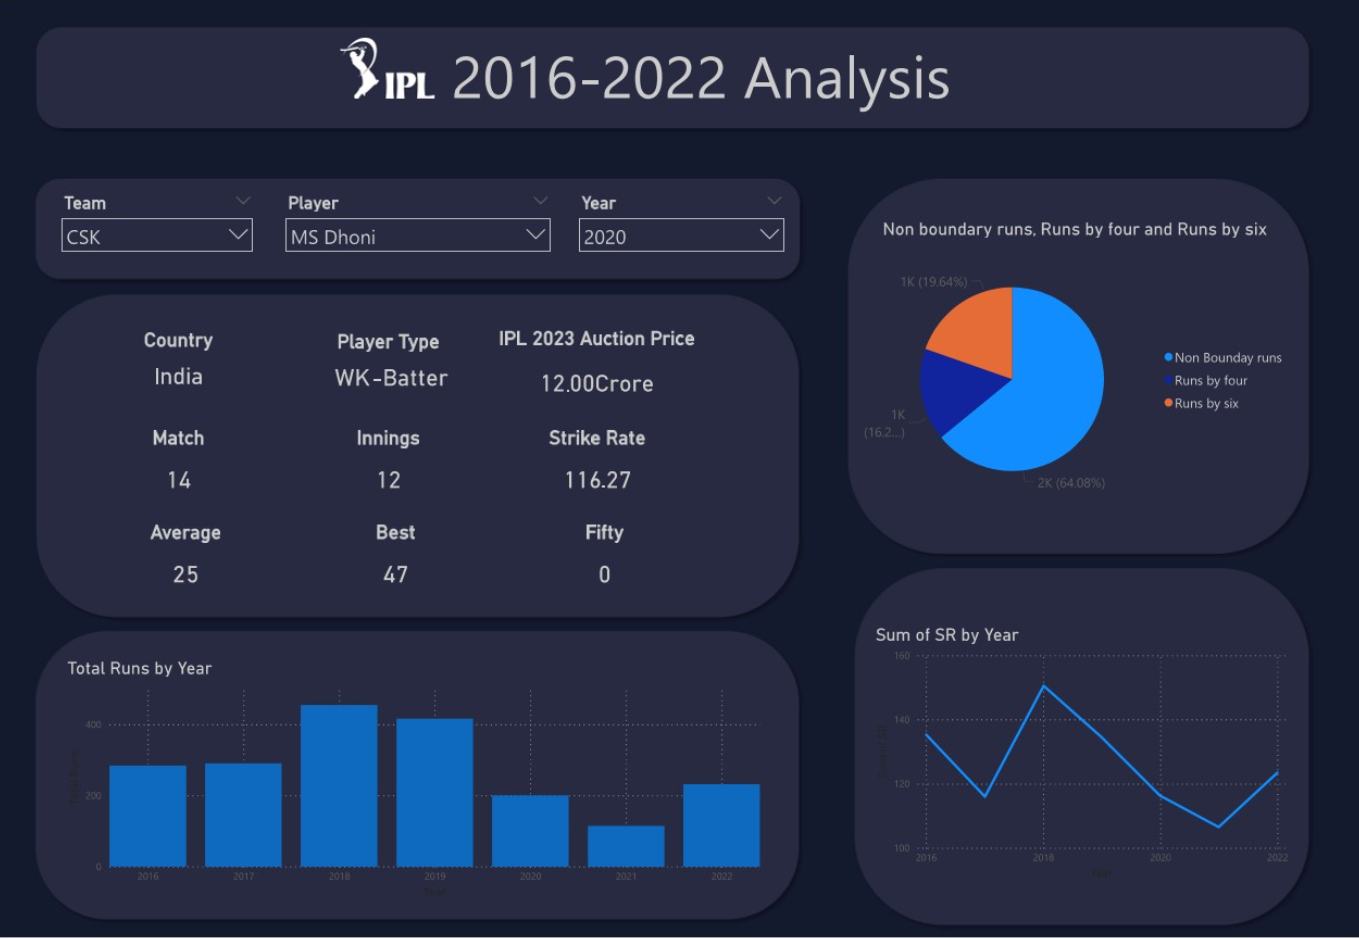

The dashboard page shown, as its layout file describes it:
{"tool":"powerbi","page":{"name":"Batsman","canvas":[1670,1150],"ordinal":0},"visuals":[{"type":"shape","box":[36,24,1580,142],"z":0},{"type":"shape","box":[1032,210,584,478],"z":1000},{"type":"shape","box":[1040,688,576,456],"z":2000},{"type":"shape","box":[35,765,955,371.7],"z":3000},{"type":"shape","box":[36,352,954,414],"z":4000},{"type":"shape","box":[34.7,209.7,956.7,141.7],"z":5000},{"type":"card","title":"Innings","fields":{"Values":["Batter Stats.Inns"]},"box":[386.3,523,181.7,100],"z":6000},{"type":"card","title":"Match","fields":{"Values":["Batter Stats.Mat"]},"box":[118,523,203.3,100],"z":7000},{"type":"card","title":"Strike Rate","fields":{"Values":["Batter Stats.SR"]},"box":[606.3,523,255,100],"z":8000},{"type":"slicer","fields":{"Values":["Batter Stats.player_name"]},"box":[341.3,231.3,345,93.3],"z":9000},{"type":"card","title":"Player Type","fields":{"Values":["Batter Stats.player_type"]},"box":[386.3,404.7,181.7,85],"z":10000},{"type":"card","title":"IPL 2023 Auction Price","fields":{"Values":["Batter Stats.player_auction_price"]},"box":[604.7,401.3,256.7,106.7],"z":11000},{"type":"card","title":"Country","fields":{"Values":["Batter Stats.player_country"]},"box":[118,403,203.3,85],"z":12000},{"type":"slicer","fields":{"Values":["Batter Stats.ipl_team"]},"box":[66.3,231.3,255,93.3],"z":13000},{"type":"clusteredColumnChart","fields":{"Category":["Batter Stats.Year"],"Y":["Batter Measures.Total Runs"]},"box":[78.3,806.7,860,300],"z":14000},{"type":"lineChart","fields":{"Category":["Batter Stats.Year"],"Y":["Batter Stats.SR"]},"box":[1070,766,516,318],"z":15000},{"type":"pieChart","title":"Non boundary runs, Runs by four and Runs by six","fields":{"Y":["Batter Measures.Non Bounday runs","Batter Measures.Runs by four","Batter Measures.Runs by six"]},"box":[1052,268,536,370],"z":16000},{"type":"slicer","fields":{"Values":["Batter Stats.Year"]},"box":[701.3,231.3,271.7,93.3],"z":17000},{"type":"textbox","box":[536.7,36.7,648.3,115],"z":18000},{"type":"image","box":[411.7,23.3,128.3,120],"z":19000},{"type":"card","title":"Best","fields":{"Values":["Batter Measures.Best"]},"box":[395,639,181.7,100],"z":20000},{"type":"card","title":"Average","fields":{"Values":["Batter Stats.Avg"]},"box":[126.7,639,203.3,100],"z":21000},{"type":"card","title":"Fifty","fields":{"Values":["Batter Stats.50"]},"box":[615,639,255,100],"z":22000}]}

Visuals, with their boxes in screenshot pixels (x1, y1, x2, y2), scaled from the page's 1670x1150 canvas onto the 1359x939 screenshot:
shape: [29,20,1315,136]
shape: [840,171,1315,562]
shape: [846,562,1315,934]
shape: [28,625,806,928]
shape: [29,287,806,625]
shape: [28,171,807,287]
"Innings" card: [314,427,462,509]
"Match" card: [96,427,261,509]
"Strike Rate" card: [493,427,701,509]
slicer - Batter Stats.player_name: [278,189,558,265]
"Player Type" card: [314,330,462,400]
"IPL 2023 Auction Price" card: [492,328,701,415]
"Country" card: [96,329,261,398]
slicer - Batter Stats.ipl_team: [54,189,261,265]
clusteredColumnChart - Batter Stats.Year x Batter Measures.Total Runs: [64,659,764,904]
lineChart - Batter Stats.Year x Batter Stats.SR: [871,625,1291,885]
"Non boundary runs, Runs by four and Runs by six" pieChart: [856,219,1292,521]
slicer - Batter Stats.Year: [571,189,792,265]
textbox: [437,30,964,124]
image: [335,19,439,117]
"Best" card: [321,522,469,603]
"Average" card: [103,522,269,603]
"Fifty" card: [500,522,708,603]
